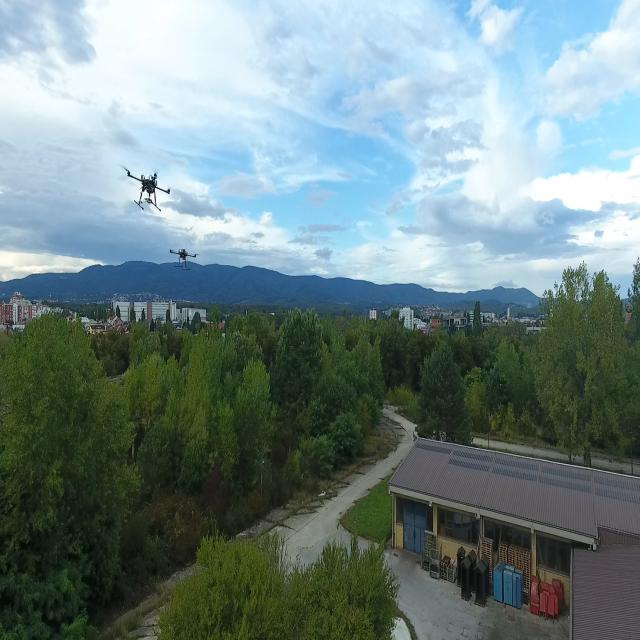UAV: (126, 159, 171, 221), (158, 243, 208, 270)
